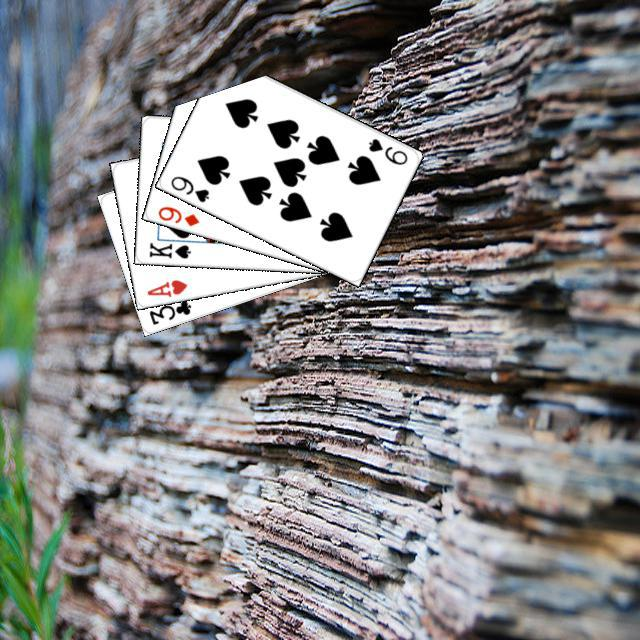3c: (144, 295, 193, 327)
9d: (153, 201, 201, 228)
9s: (363, 133, 409, 167), (166, 171, 211, 204)
Ah: (142, 275, 189, 298)
Ks: (144, 238, 192, 260)
